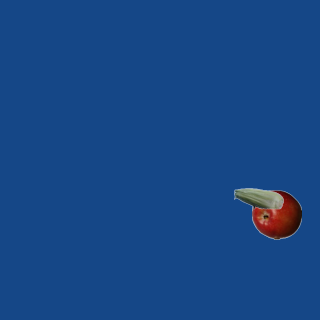Apple Braeburn: (251, 189, 301, 239)
Corn Husk: (233, 173, 283, 223)
